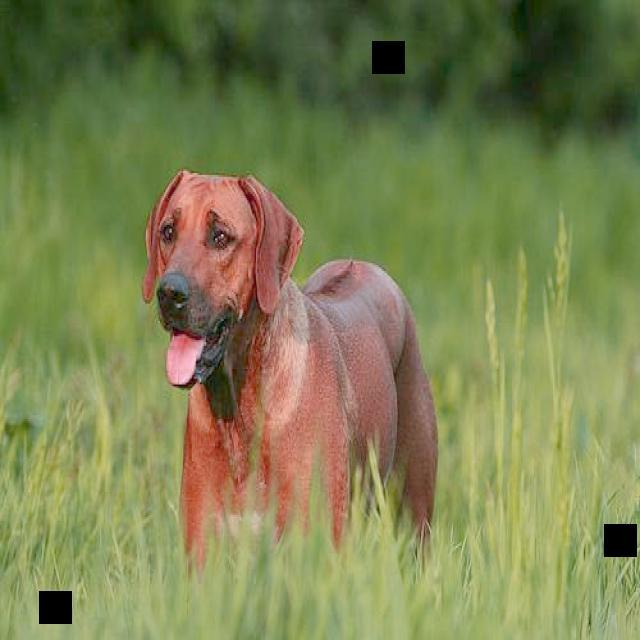adult_dog: (143, 164, 442, 564)
